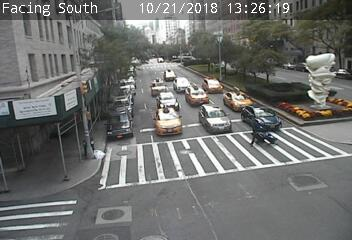car: (242, 105, 280, 131), (199, 104, 230, 134), (155, 106, 181, 136), (223, 88, 253, 112), (186, 85, 209, 106), (157, 91, 178, 110), (203, 77, 222, 94), (151, 79, 166, 97), (174, 77, 191, 92), (164, 69, 175, 81)
